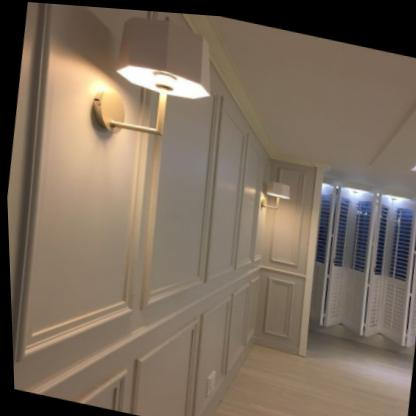Futec frame: (10, 3, 262, 416)
